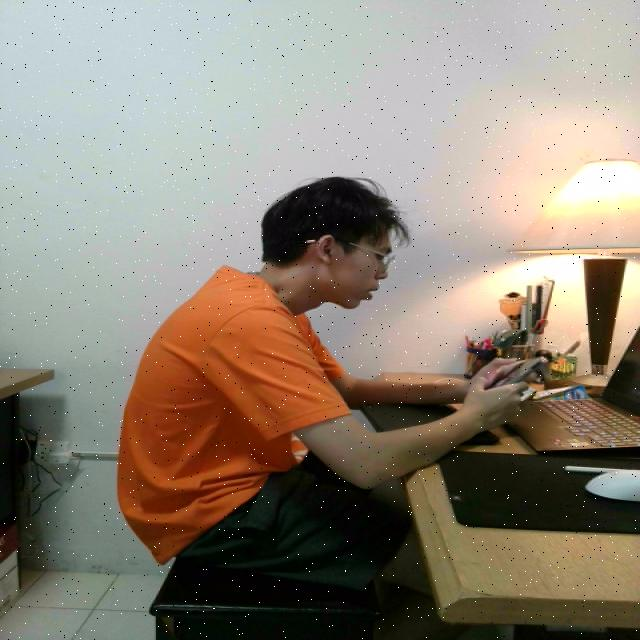Bad: (111, 174, 449, 544)
